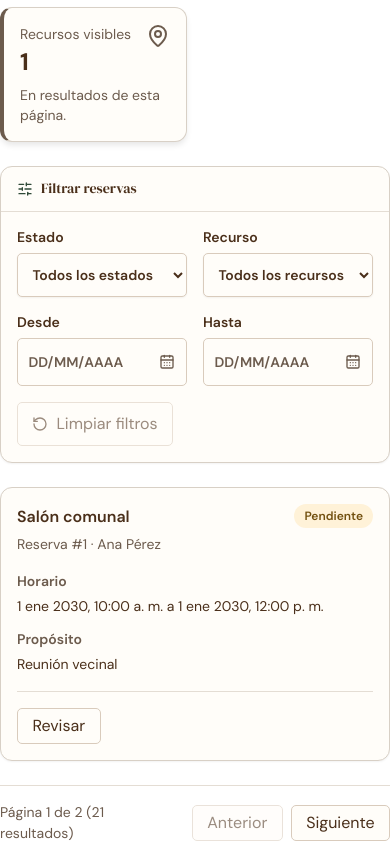
ReservationAdminPage › uses the same pending review entry point on mobile cards
The image size is (390, 844).
(page scrolled)
Expected: the text "Reserva #1 · Ana Pérez" is shown, [17,534,161,555]
Expected: the text "Reunión vecinal" is shown, [17,655,118,673]
Click the button "Revisar". click: (59, 726)
box: [17,708,100,744]
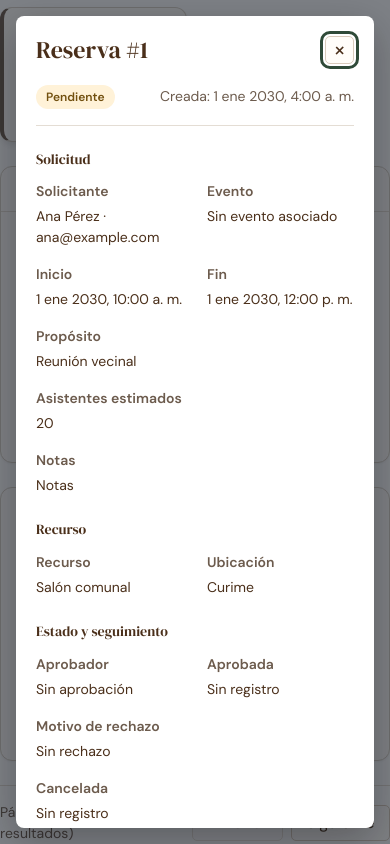
Now the dialog "Reserva #1" is shown
